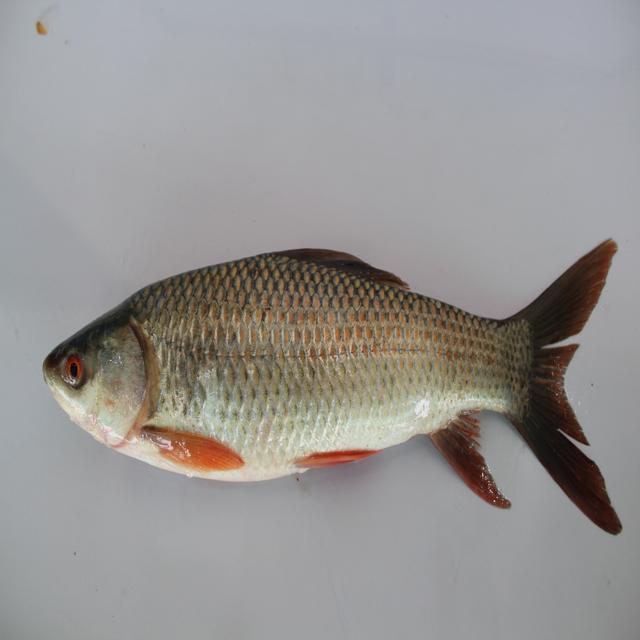Rohu: (45, 238, 629, 545)
